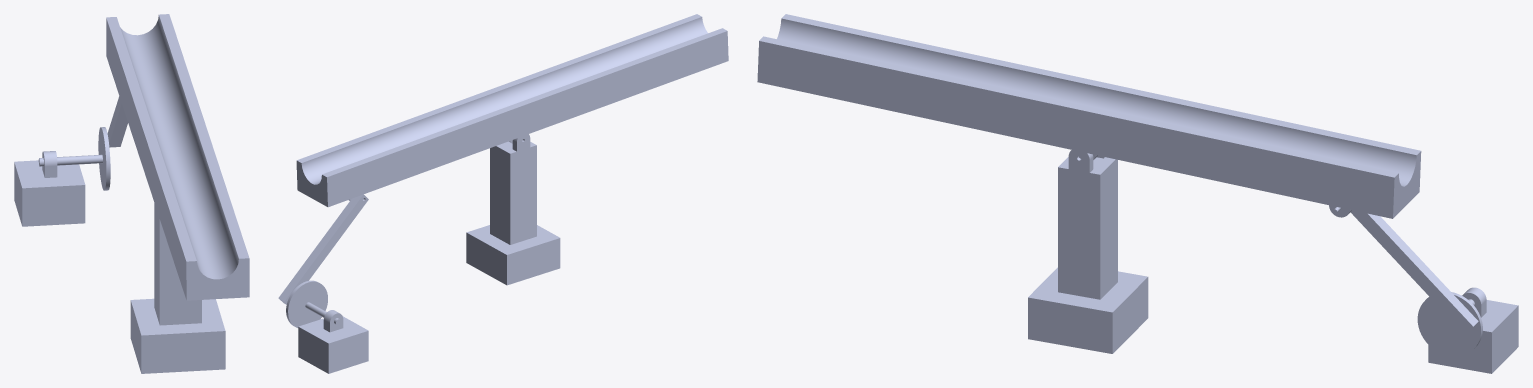
The model's file is fbx_assembly.fbx.
The picture shows the model from 3 angles, left to right: view 1: azimuth 30°, elevation 25°; view 2: azimuth 150°, elevation 25°; view 3: azimuth 270°, elevation 25°; orthographic projection. The views are drawn at different scales.
Visible parts, largest first — view 1: Body_1_4, Body_1_5, Body_1, Body_1_2, Body_1_3; view 2: Body_1_4, Body_1_5, Body_1, Body_1_3, Body_1_2; view 3: Body_1_4, Body_1_5, Body_1, Body_1_3, Body_1_2.
Part boxes in pixels (left/top/right/bottom): Body_1_4: left=106, top=14, right=249, bottom=300; Body_1_5: left=130, top=203, right=225, bottom=373; Body_1: left=14, top=151, right=85, bottom=226; Body_1_2: left=38, top=127, right=110, bottom=190; Body_1_3: left=107, top=96, right=127, bottom=147; Body_1_4: left=296, top=14, right=728, bottom=207; Body_1_5: left=466, top=134, right=560, bottom=285; Body_1: left=298, top=310, right=368, bottom=373; Body_1_3: left=278, top=194, right=368, bottom=304; Body_1_2: left=286, top=280, right=341, bottom=327; Body_1_4: left=757, top=14, right=1421, bottom=218; Body_1_5: left=1028, top=150, right=1148, bottom=353; Body_1: left=1428, top=287, right=1518, bottom=373; Body_1_3: left=1350, top=210, right=1478, bottom=334; Body_1_2: left=1417, top=292, right=1482, bottom=356.
Size of the model in its own units: 0.072 by 0.1655 by 0.0589.
